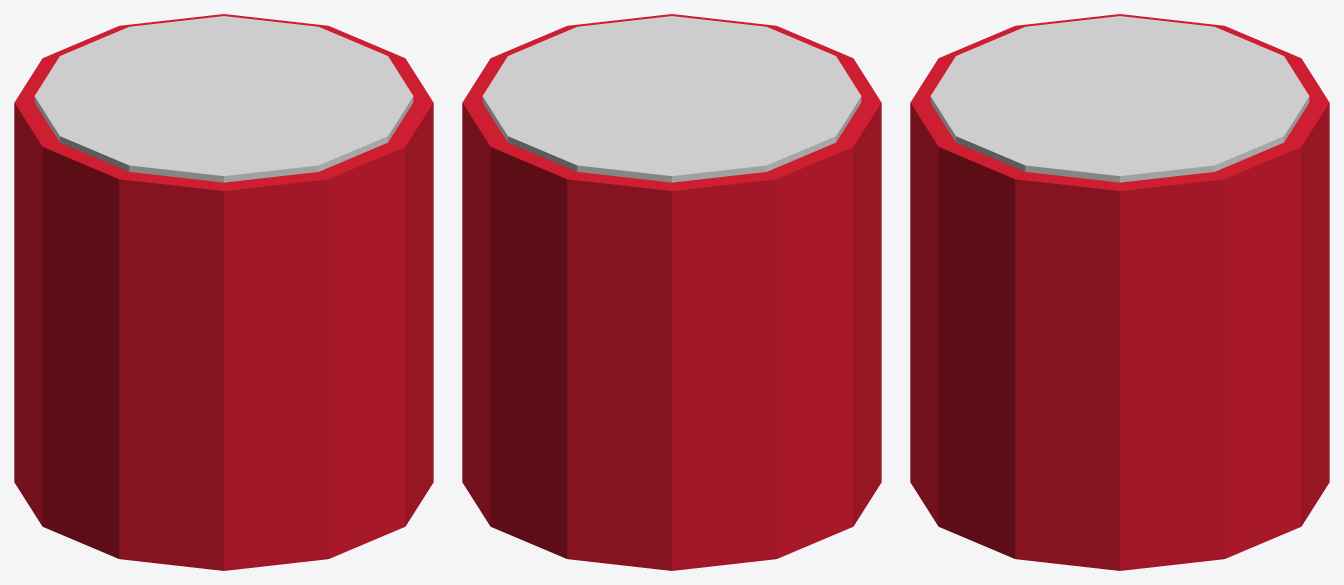
File: red_paint.fbx
3 views of the same model, side by side, from view 1: azimuth 30°, elevation 25°; view 2: azimuth 150°, elevation 25°; view 3: azimuth 270°, elevation 25° (orthographic).
Parts seen in each view (by area): view 1: Cylinder, Cylinder.004; view 2: Cylinder, Cylinder.004; view 3: Cylinder, Cylinder.004.
Boxes of the visible parts, left/top/right/bottom form: Cylinder: left=14, top=14, right=433, bottom=570; Cylinder.004: left=34, top=16, right=413, bottom=182; Cylinder: left=462, top=14, right=881, bottom=570; Cylinder.004: left=482, top=16, right=861, bottom=182; Cylinder: left=910, top=14, right=1329, bottom=570; Cylinder.004: left=930, top=16, right=1309, bottom=182.
Bounding box in the file's own units: 51.25 × 52.12 × 51.25.
